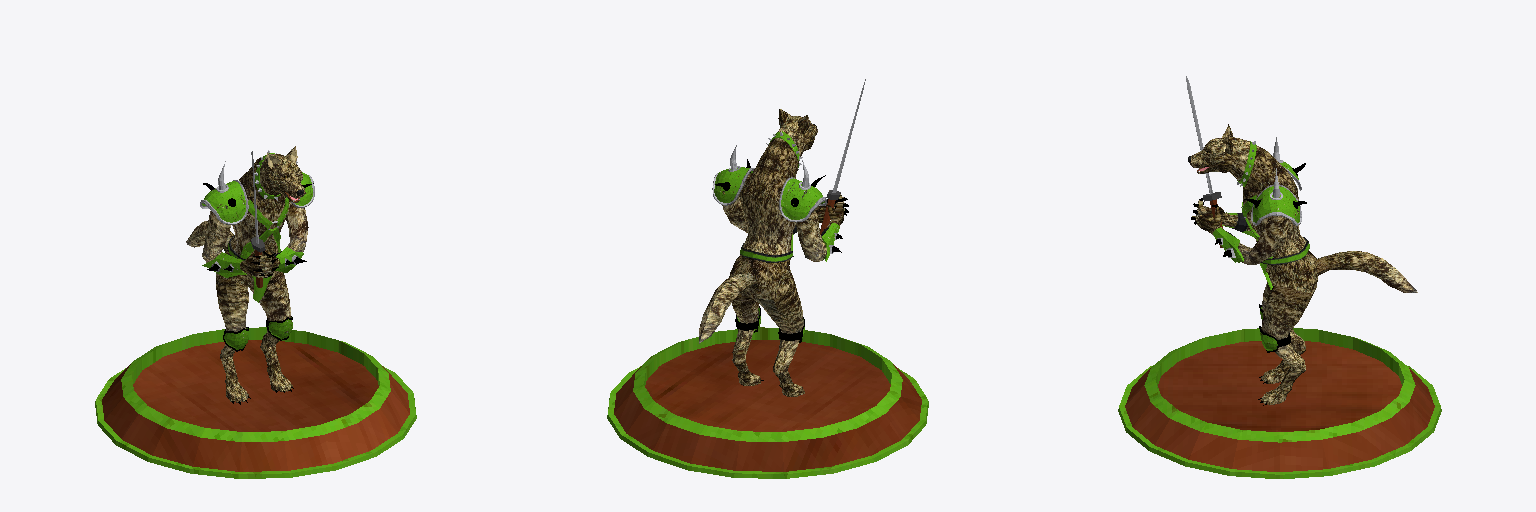
3 views of the same model, side by side, from view 1: azimuth 30°, elevation 25°; view 2: azimuth 150°, elevation 25°; view 3: azimuth 270°, elevation 25° (orthographic).
Parts seen in each view (by area): view 1: polySurface52; view 2: polySurface52; view 3: polySurface52.
Boxes of the visible parts, box(x1,y1,x2,y2) form: polySurface52: box(95, 146, 416, 478); polySurface52: box(607, 79, 928, 478); polySurface52: box(1118, 76, 1441, 478).
Size of the model in its own units: 7.93 by 8.38 by 7.93.
Materials: 1 (1 with a texture image).